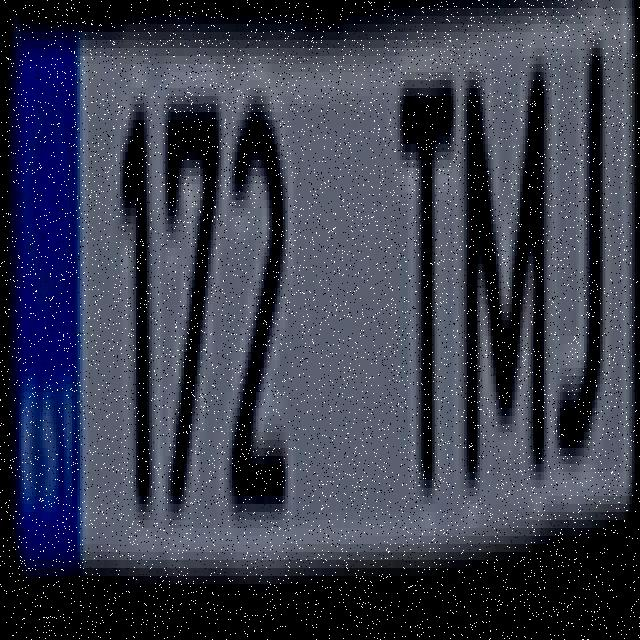licenseplate: (8, 14, 636, 586)
